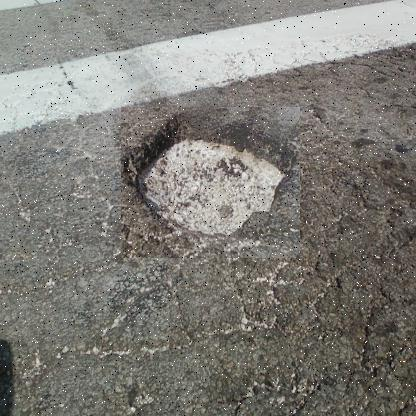pothole: (120, 107, 300, 259)
